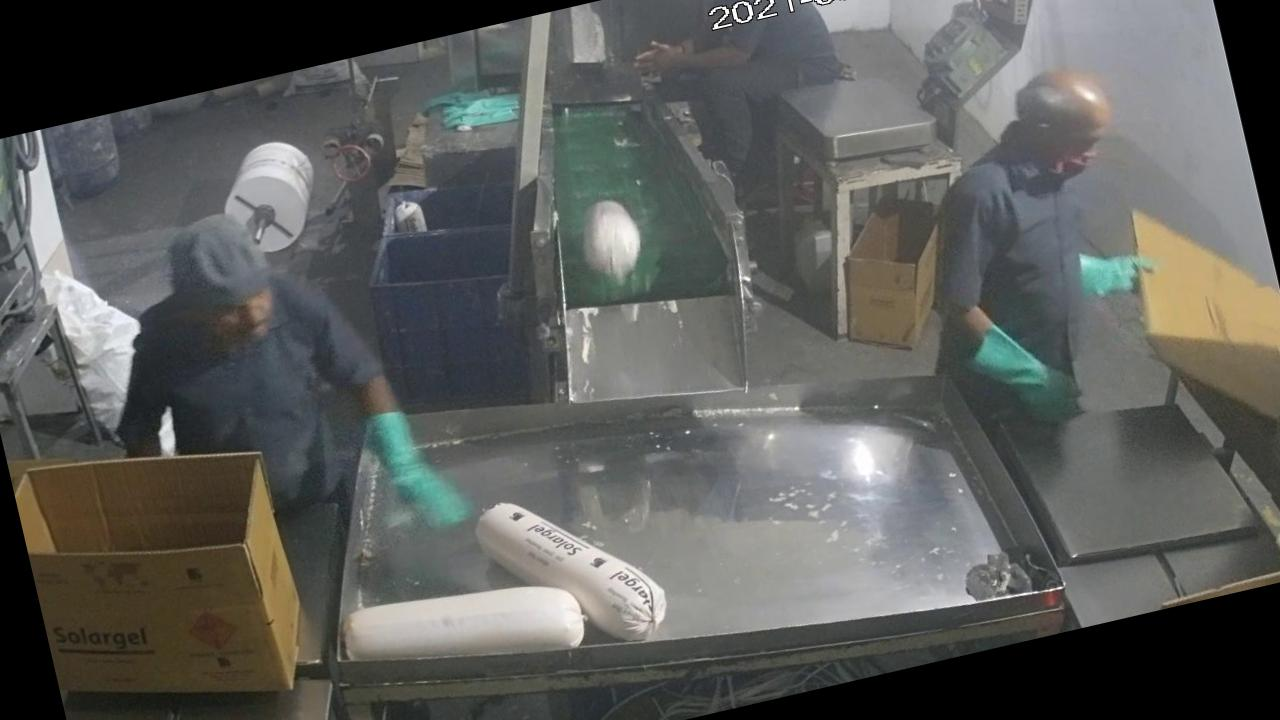Helmet: (146, 194, 300, 330)
